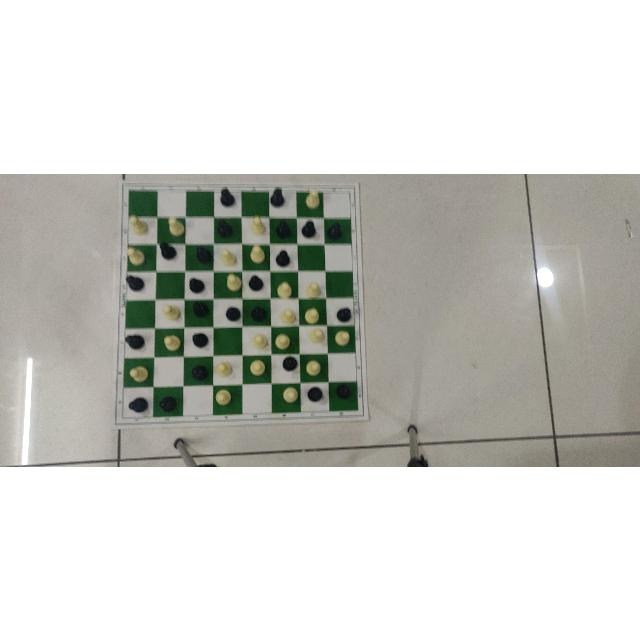black-pawn: (271, 216, 295, 240), (156, 393, 181, 415), (156, 238, 179, 261), (324, 217, 345, 241), (190, 298, 214, 319), (121, 332, 147, 351), (267, 185, 287, 209), (194, 242, 214, 266), (126, 396, 152, 413), (247, 303, 270, 322), (190, 361, 209, 384), (126, 272, 146, 293), (214, 216, 233, 238), (192, 330, 211, 352), (335, 381, 354, 403), (273, 247, 293, 267), (223, 304, 243, 324), (280, 354, 299, 374), (300, 218, 318, 239), (246, 273, 265, 292), (334, 305, 353, 324), (220, 186, 238, 206), (305, 384, 324, 402), (188, 276, 206, 294)
white-pawn: (128, 211, 150, 237), (161, 330, 182, 353), (126, 244, 146, 268), (212, 386, 233, 407), (166, 213, 185, 236), (126, 365, 151, 382), (280, 384, 300, 405), (249, 213, 267, 236), (303, 187, 321, 210), (249, 356, 267, 379), (162, 303, 183, 322), (275, 278, 294, 299), (303, 357, 322, 378), (272, 331, 291, 351), (218, 248, 239, 266), (304, 280, 325, 298), (248, 332, 269, 350), (308, 326, 327, 345), (224, 272, 242, 292), (278, 306, 298, 324), (216, 358, 234, 378), (249, 242, 266, 263), (303, 305, 321, 324), (333, 327, 350, 347)
